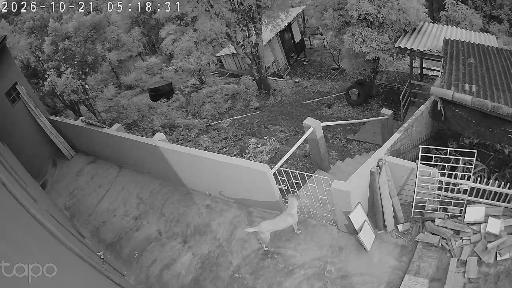cachorro: (242, 193, 303, 257)
